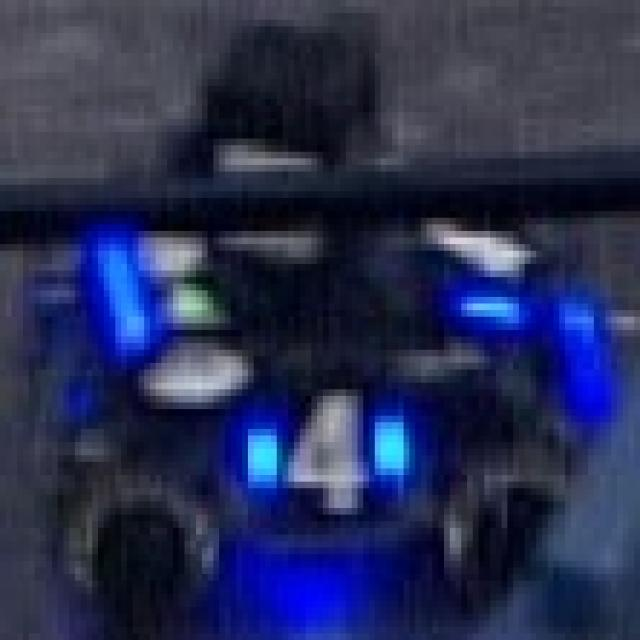B4: (233, 379, 424, 532), (421, 221, 559, 320)
